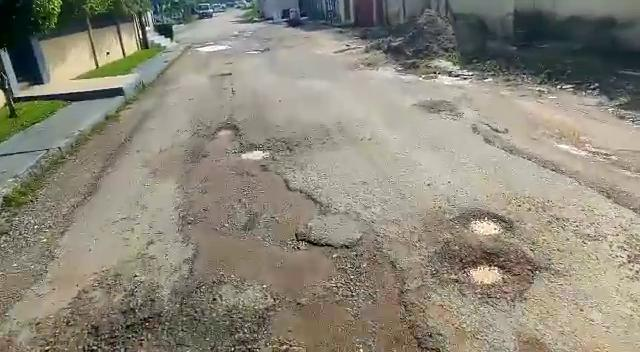pothole: (433, 241, 539, 299), (453, 207, 514, 239), (239, 148, 271, 161), (213, 123, 240, 138)
